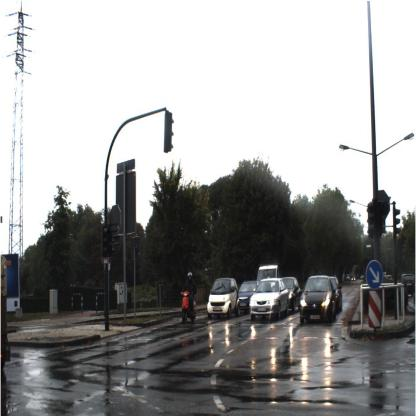mandatory: (362, 254, 386, 293)
